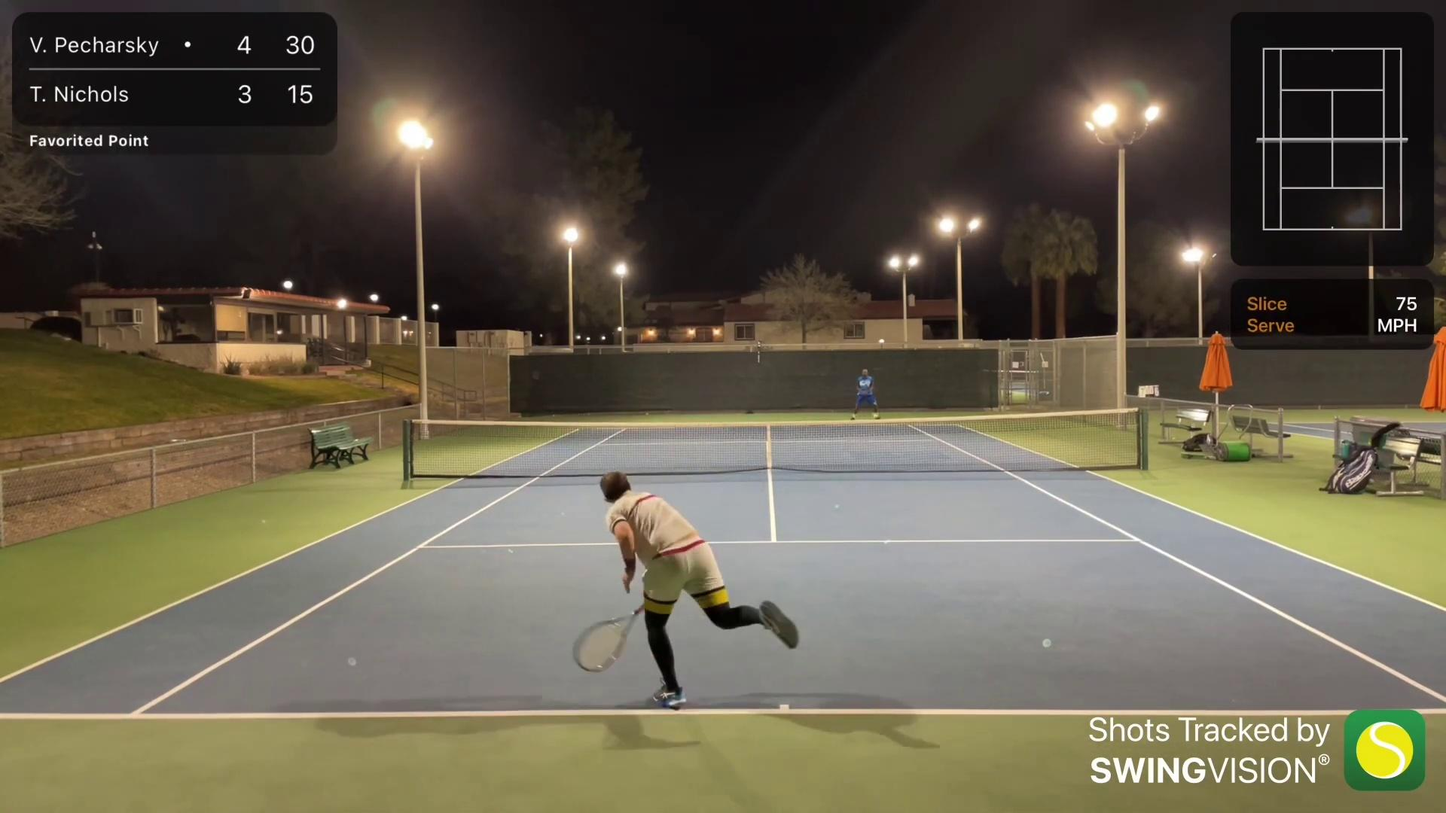ball: (870, 408, 884, 423)
